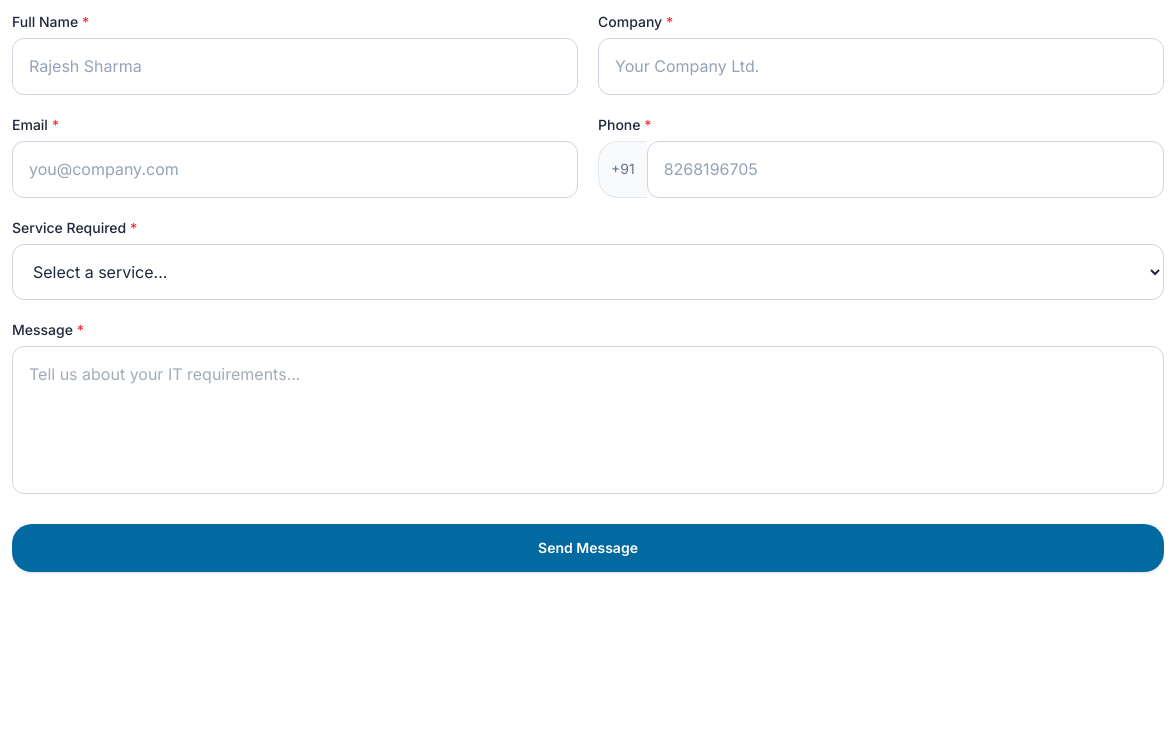
ContactForm › shows validation error for invalid email
Type "Test User" into the field labelled "Full Name *".
click(295, 66); type("Test User")  # box [12,38,578,95]
Type "Test Co" into the field labelled "Company *".
click(881, 66); type("Test Co")  # box [598,38,1164,95]
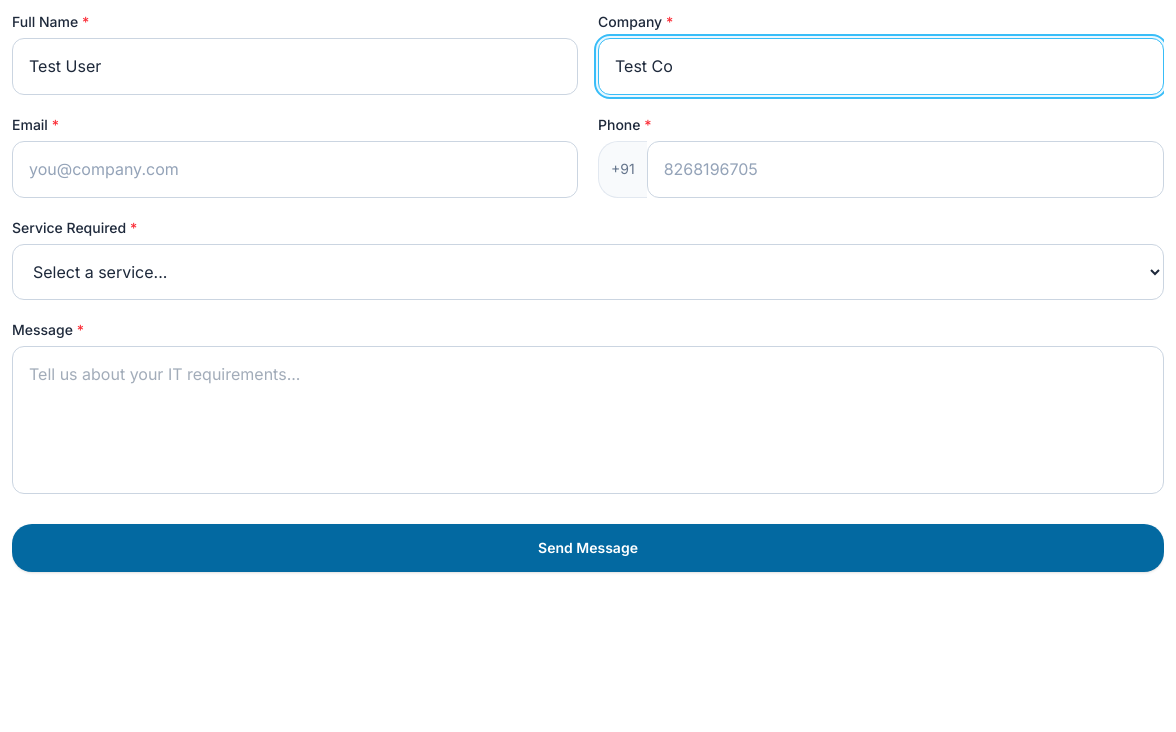
Type "notanemail" into the field labelled "Email *".
click(295, 169); type("notanemail")  # box [12,141,578,198]
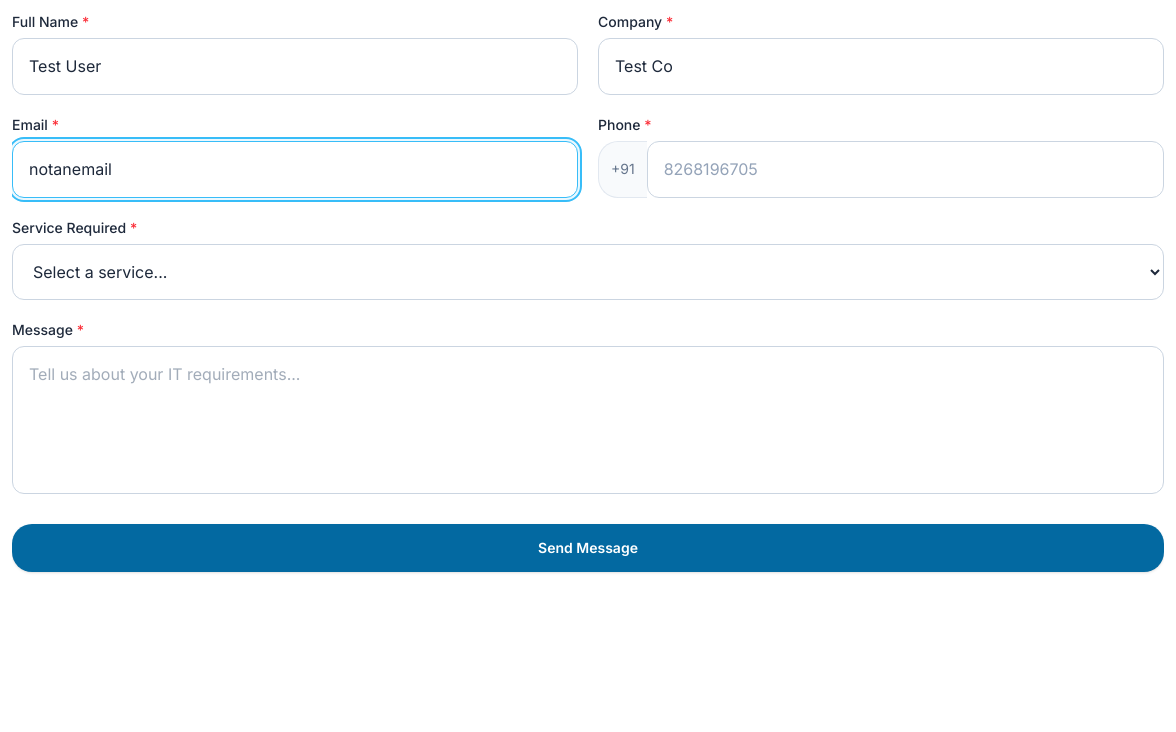
Type "9876543210" into the field labelled "Phone *".
click(905, 169); type("9876543210")  # box [647,141,1164,198]
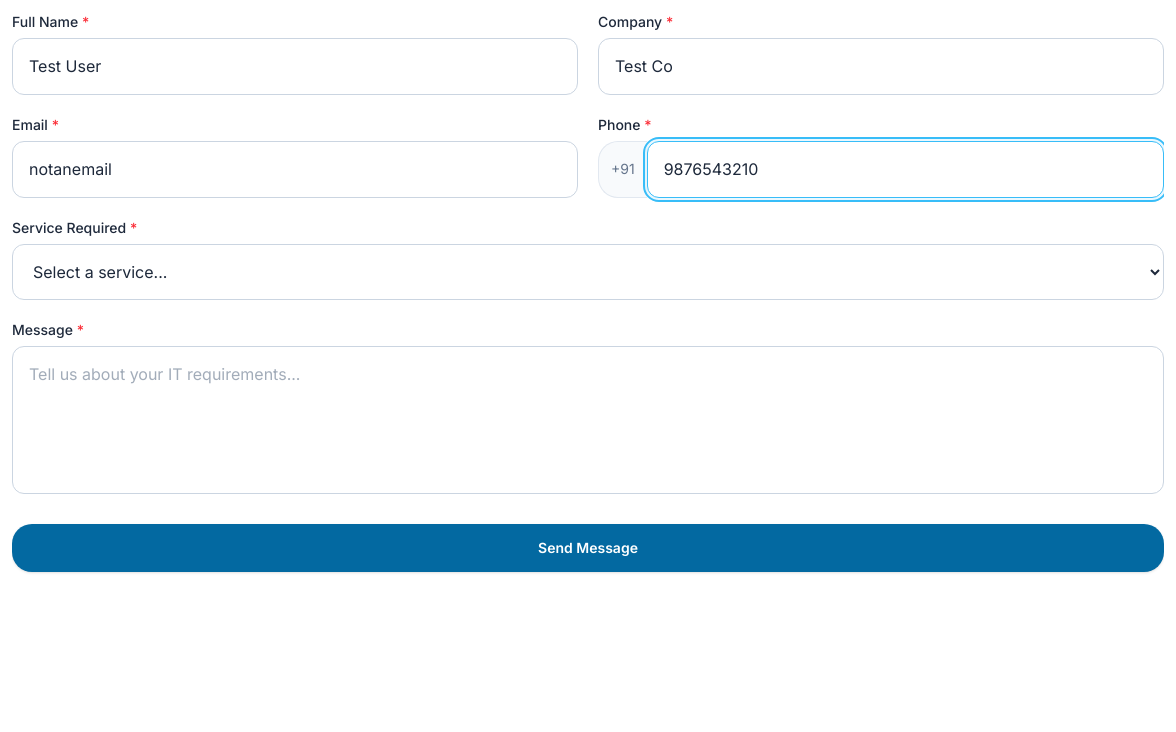
Select "IT Consulting" in the dropdown labelled "Service Required *" at (588, 272), box [12,244,1164,300]
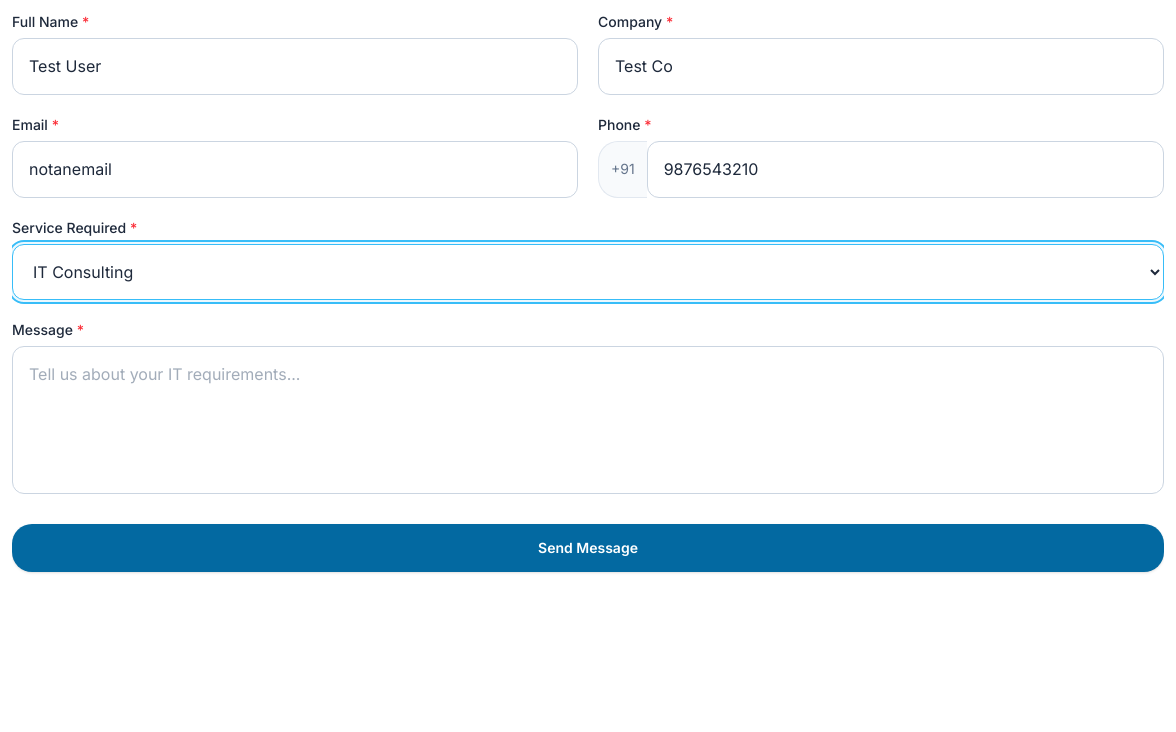
Type "This is a test message that is long enough." into the text box labelled "Message *".
click(588, 420); type("This is a test message that is long enough.")  # box [12,346,1164,494]
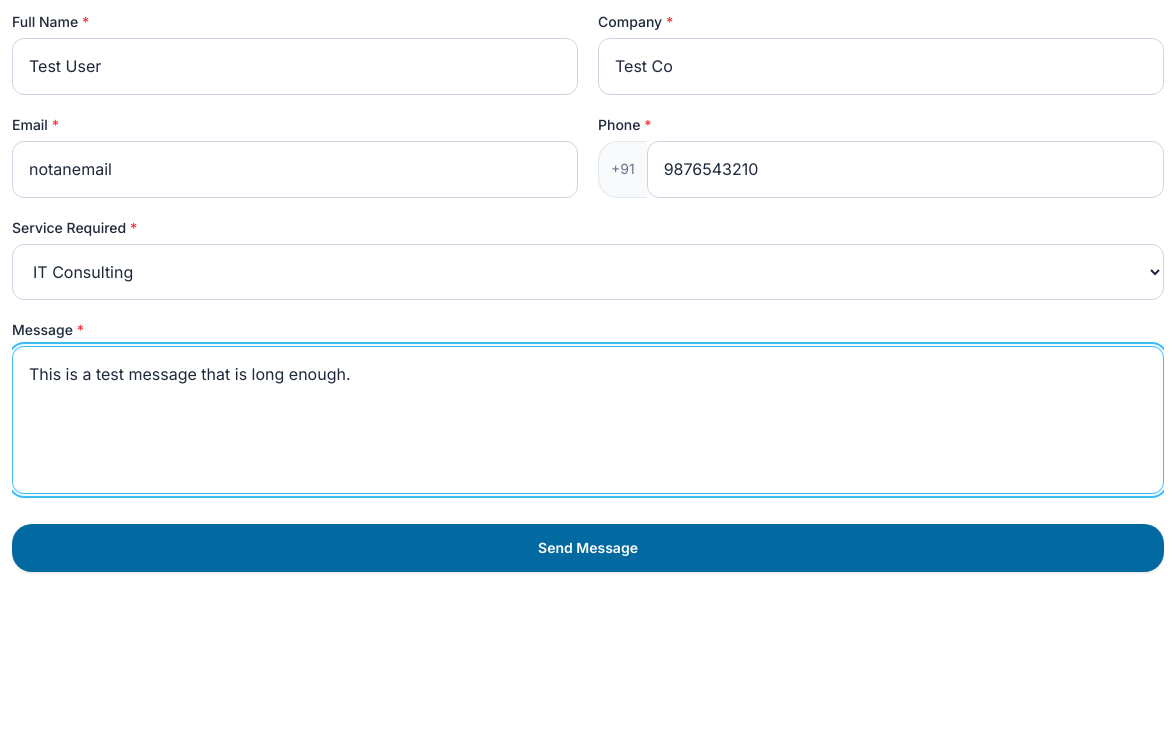
Click the button "Send Message".
click(588, 548)  # box [12,524,1164,572]
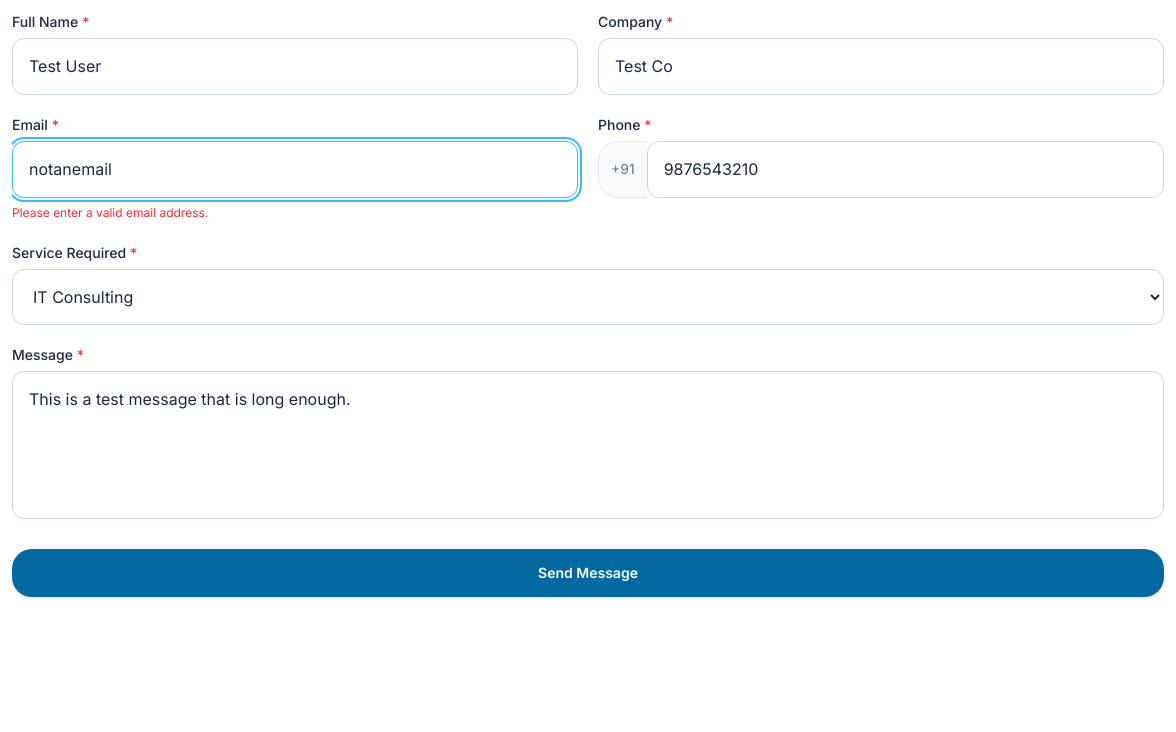
Expected: the text "Please enter a valid email address." is shown, [12,205,208,220]
